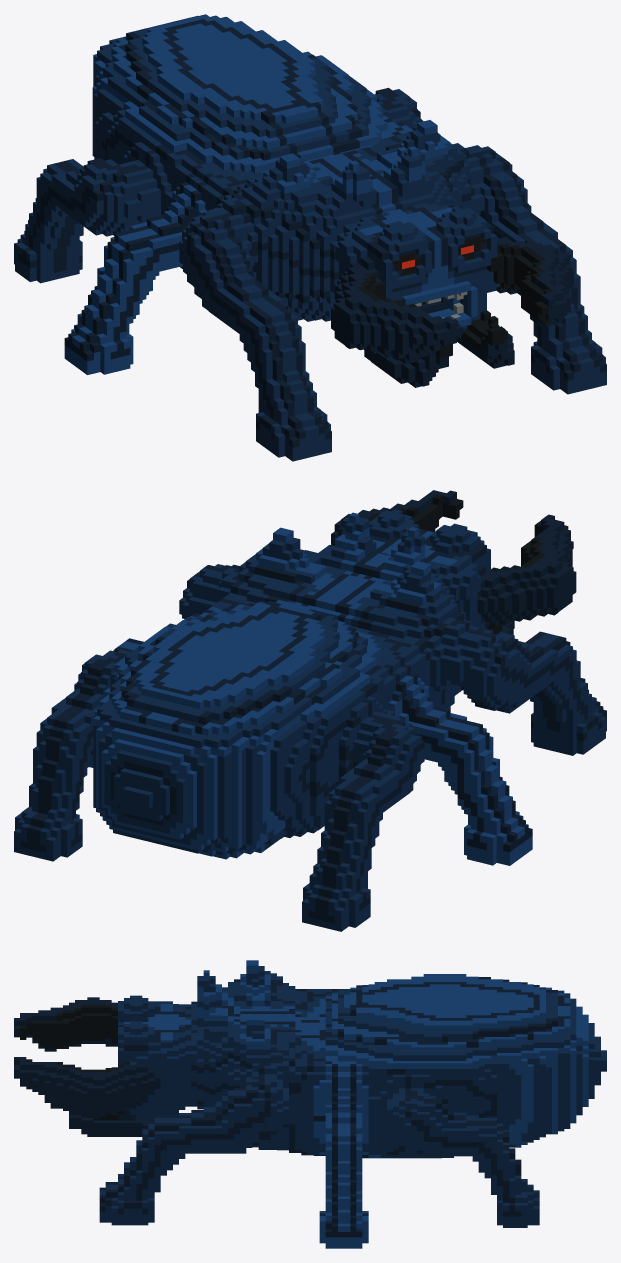
Rendered from beetle_attack_blue_v2.0-7.obj.
3 renders of one model, top to bottom at view 1: azimuth 30°, elevation 25°; view 2: azimuth 150°, elevation 25°; view 3: azimuth 270°, elevation 25°, orthographic. The views are drawn at different scales.
Bounding box in the file's own units: 6.8 × 3.2 × 9.7.
Materials: 1 (1 with a texture image).
